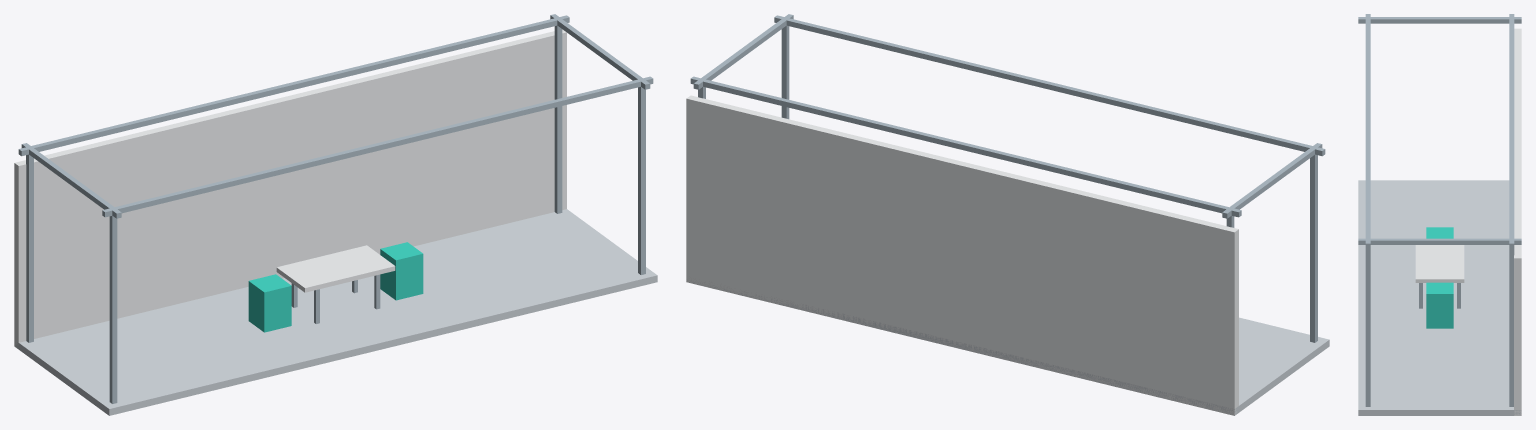
3 renders of one model, left to right at view 1: azimuth 30°, elevation 25°; view 2: azimuth 150°, elevation 25°; view 3: azimuth 270°, elevation 25°, orthographic. The views are drawn at different scales.
Visible parts, largest first — view 1: Exhibition Booth Concept; view 2: Exhibition Booth Concept; view 3: Exhibition Booth Concept.
Boxes of the visible parts, x1,y1,x2,y2 form: Exhibition Booth Concept: (14,14,657,415); Exhibition Booth Concept: (686,14,1329,415); Exhibition Booth Concept: (1358,14,1521,415).
Size of the model in its own units: 10 by 3.49 by 3.
